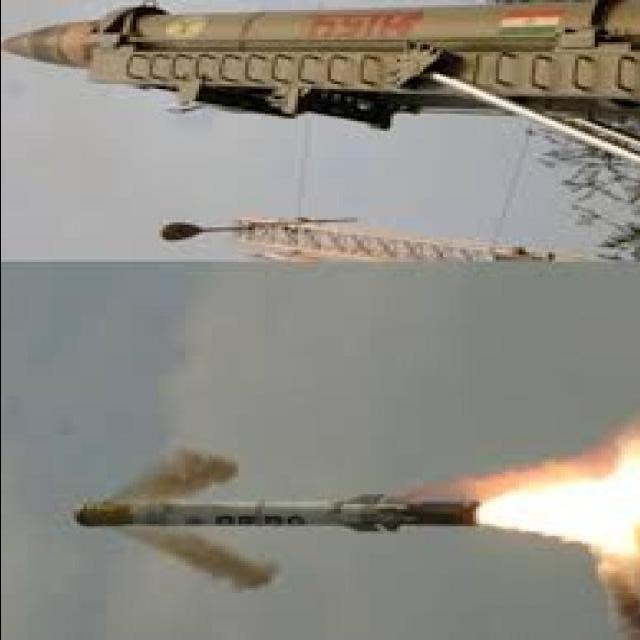Missile: (69, 497, 481, 536)
